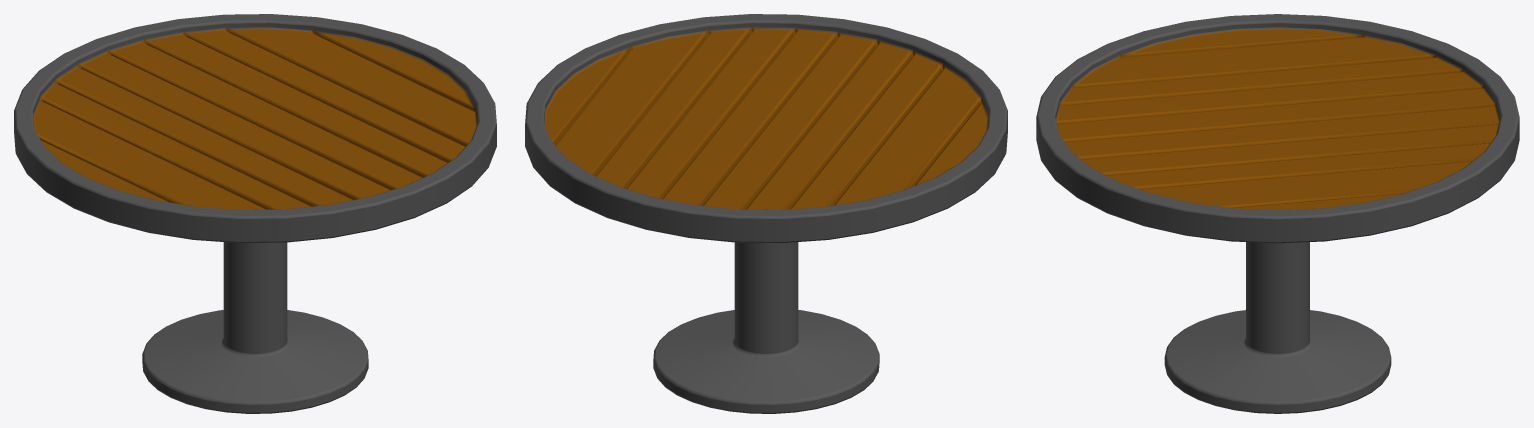
Rendered from masa (1).fbx.
The picture shows the model from 3 angles, left to right: view 1: azimuth 30°, elevation 25°; view 2: azimuth 150°, elevation 25°; view 3: azimuth 270°, elevation 25°; orthographic projection.
Visible parts, largest first — view 1: Circle.001; view 2: Circle.001; view 3: Circle.001.
Boxes of the visible parts, box(x1,y1,x2,y2) form: Circle.001: box(14, 14, 496, 413); Circle.001: box(525, 14, 1007, 413); Circle.001: box(1036, 14, 1519, 413).
Size of the model in its own units: 868 by 499 by 868.
